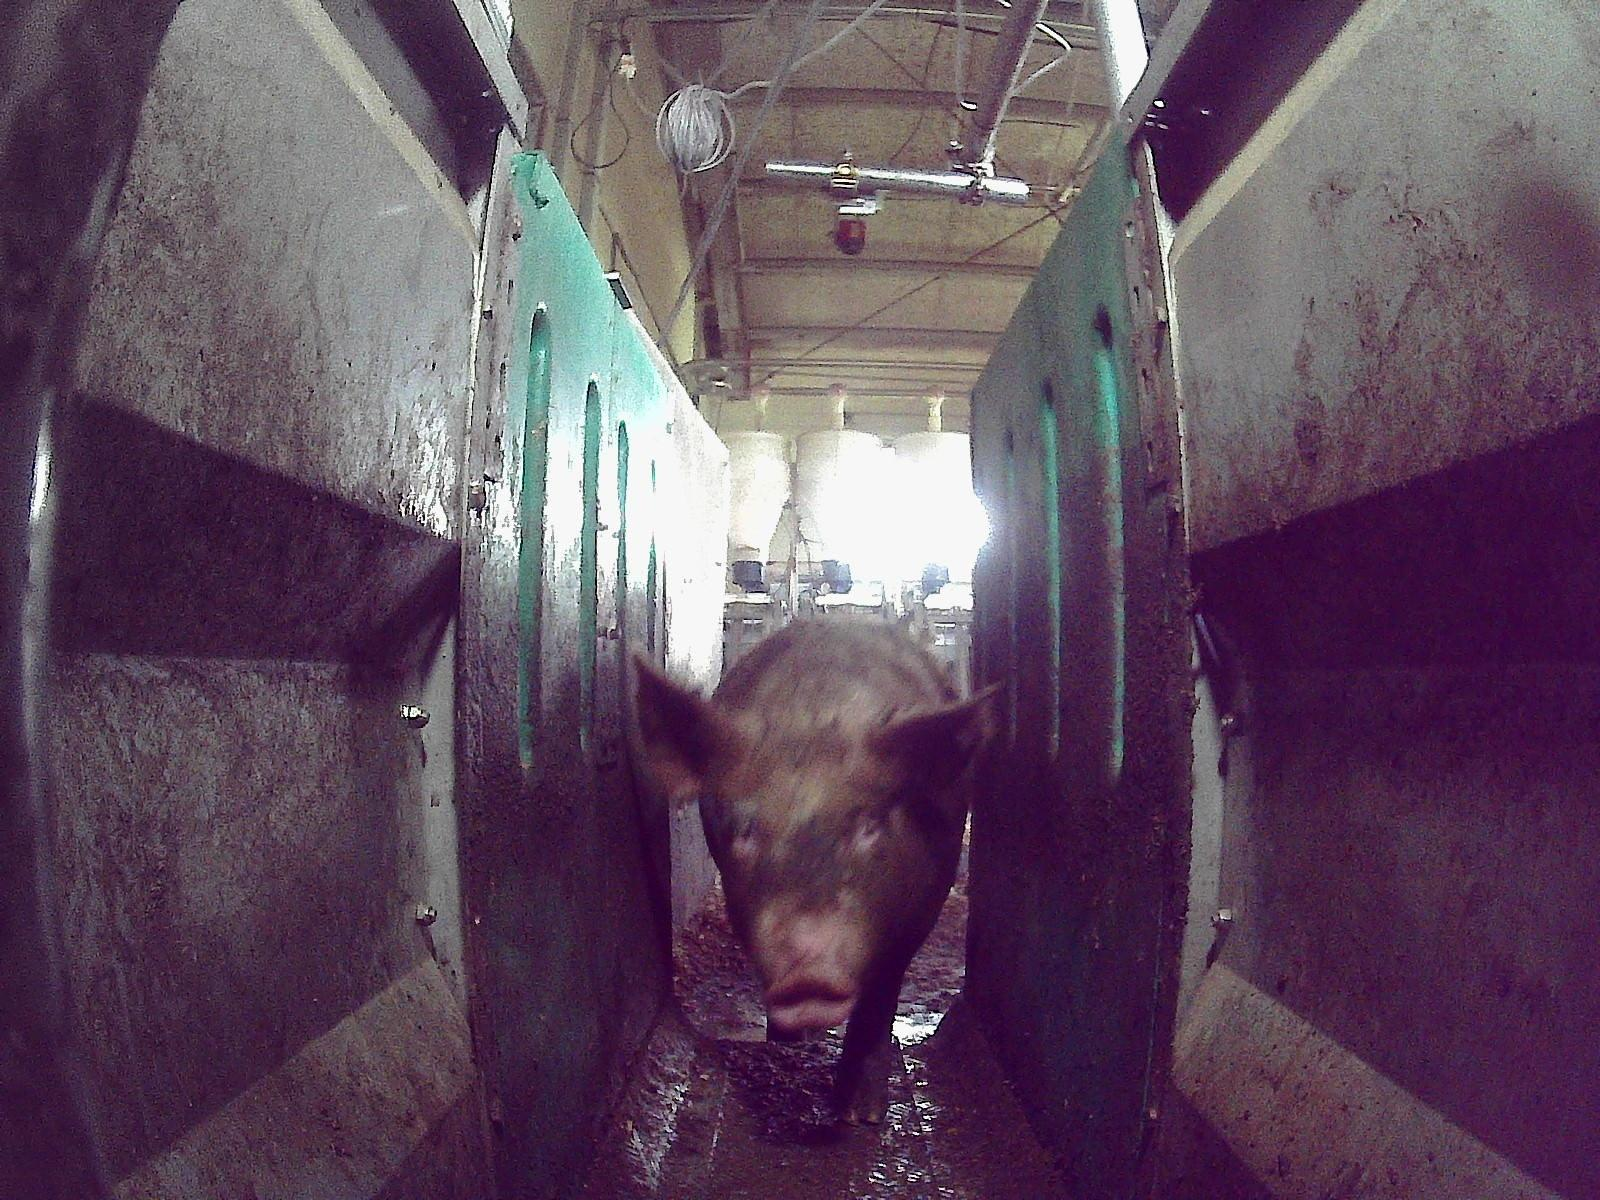Face: (705, 739, 913, 1027)
